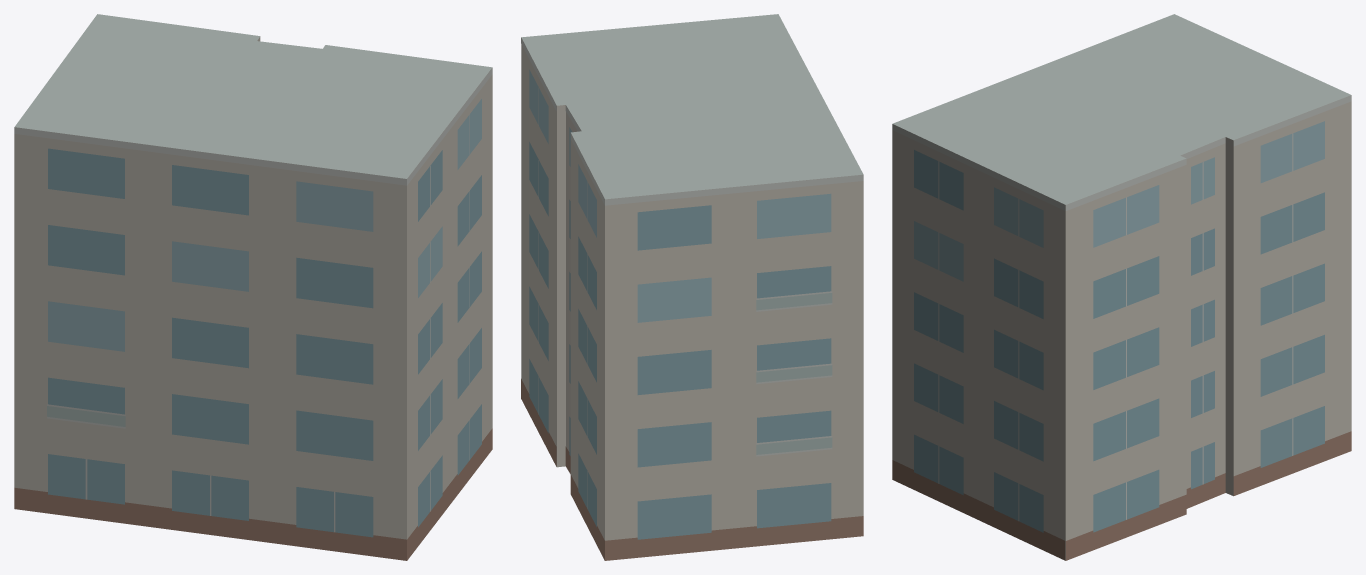
File: survey-upis-32978371.glb
3 views of the same model, side by side, from view 1: azimuth 30°, elevation 25°; view 2: azimuth 150°, elevation 25°; view 3: azimuth 270°, elevation 25° (orthographic). The views are drawn at different scales.
Visible parts, largest first — view 1: survey-upis-32978371.tmp; view 2: survey-upis-32978371.tmp; view 3: survey-upis-32978371.tmp.
Boxes of the visible parts, x1,y1,x2,y2 form: survey-upis-32978371.tmp: [14, 14, 492, 560]; survey-upis-32978371.tmp: [521, 14, 863, 560]; survey-upis-32978371.tmp: [892, 14, 1351, 560].
Bounding box in the file's own units: 16 × 13.9 × 16.27.
